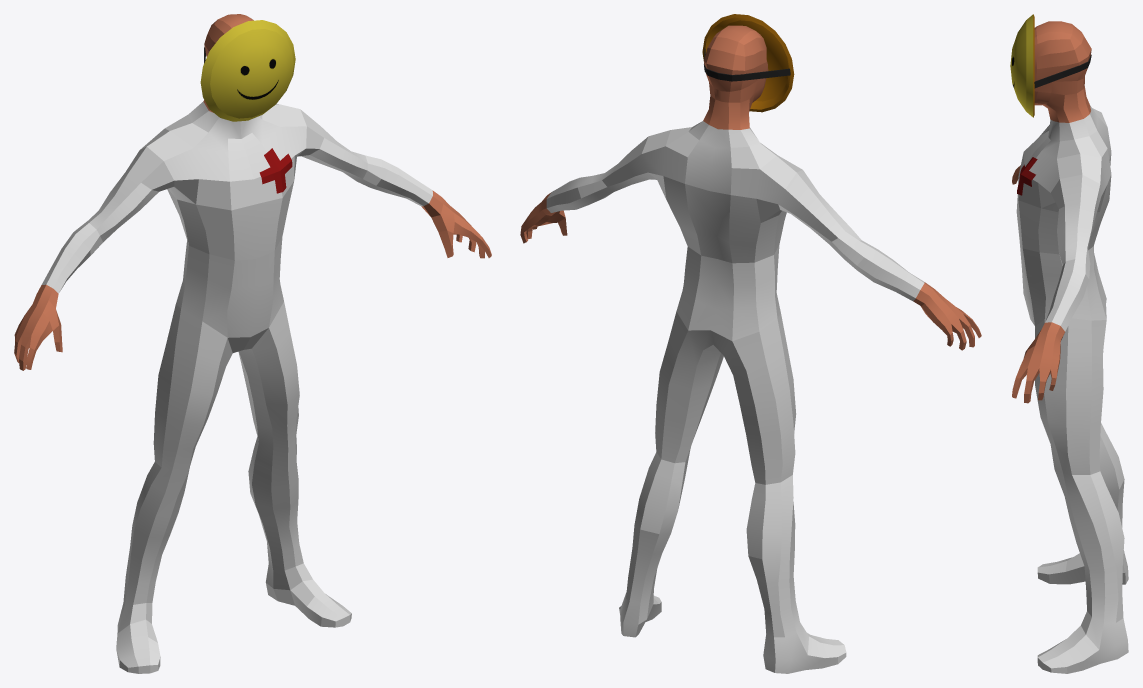
The model's file is Orderly_Smile.FBX.
3 views of the same model, side by side, from view 1: azimuth 30°, elevation 25°; view 2: azimuth 150°, elevation 25°; view 3: azimuth 270°, elevation 25° (orthographic). The views are drawn at different scales.
Visible parts, largest first — view 1: Human_BaseMesh, Sphere001, Object002; view 2: Human_BaseMesh, Sphere001; view 3: Human_BaseMesh, Sphere001, Object001, Object002.
Part boxes in pixels (x1,y1,x2,y2): Human_BaseMesh: [14, 14, 491, 673]; Sphere001: [200, 20, 295, 121]; Object002: [259, 148, 292, 193]; Human_BaseMesh: [520, 25, 981, 673]; Sphere001: [702, 14, 794, 112]; Human_BaseMesh: [1012, 21, 1128, 673]; Sphere001: [1010, 14, 1034, 117]; Object001: [1034, 54, 1091, 88]; Object002: [1017, 157, 1037, 195].
Bounding box in the file's own units: 53.6 × 69.81 × 12.36.
